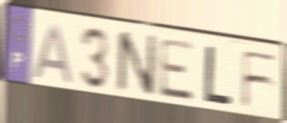3: (78, 26, 112, 91)
A: (30, 21, 76, 86)
E: (157, 37, 197, 104)
F: (240, 48, 281, 111)
L: (202, 44, 234, 108)
N: (115, 29, 159, 99)
